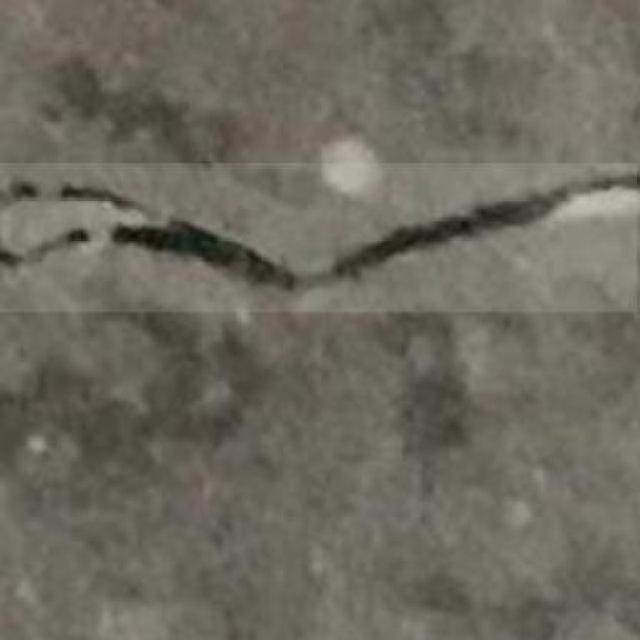Crack: (8, 166, 638, 308)
